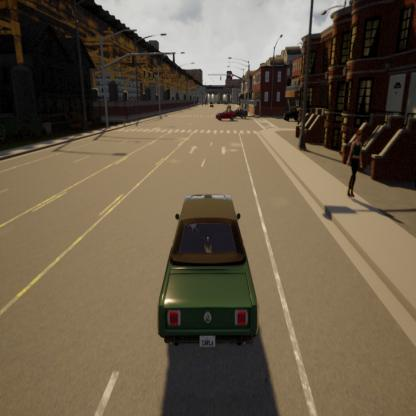Cars: (142, 165, 268, 368), (214, 104, 236, 128), (230, 104, 250, 123), (207, 100, 216, 110)
Pedestrian: (348, 124, 366, 218)
